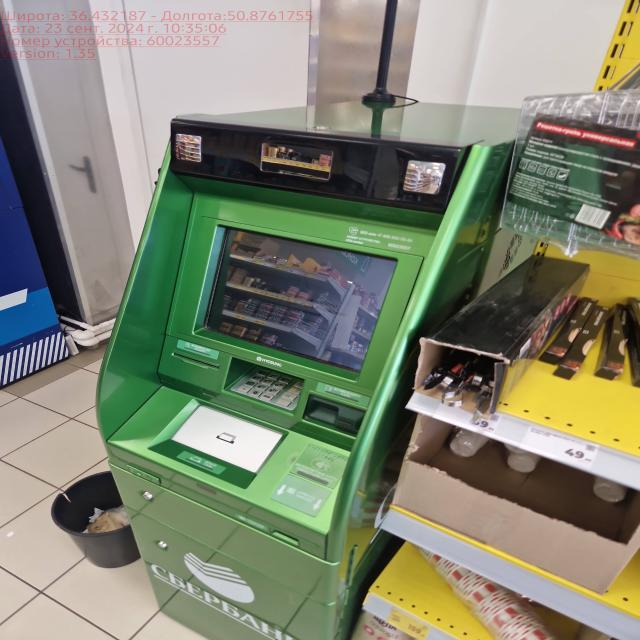bank: (94, 95, 536, 640)
